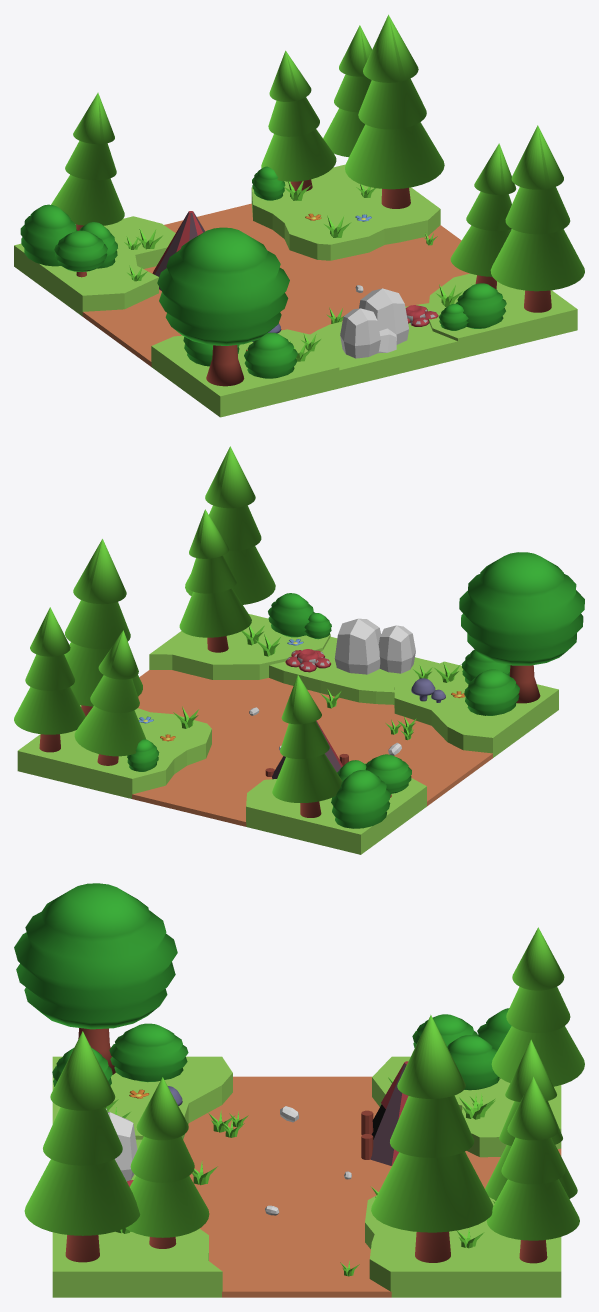
Rendered from jungle level set - 3 Way (3).fbx.
3 renders of one model, top to bottom at view 1: azimuth 30°, elevation 25°; view 2: azimuth 150°, elevation 25°; view 3: azimuth 270°, elevation 25°, orthographic. The views are drawn at different scales.
Parts seen in each view (by area): view 1: land_platform, tree_003, tree_002, tree_006, tree, tree_007, tree_005, tree_001, bush_003, bush_005, tree_004, stone (+7 smaller); view 2: land_platform, tree_003, tree_002, tree_001, tree_005, tree_007, tree_006, tree, bush_003, stone_004, bush, stone (+7 smaller); view 3: land_platform, tree_003, tree_002, tree_006, tree_001, tree_005, tree_007, bush, tree, camp, bush_001, stone_004 (+3 smaller).
Boxes of the visible parts, left/top/right/bottom form: land_platform: left=14, top=164, right=577, bottom=417; tree_003: left=157, top=227, right=289, bottom=386; tree_002: left=345, top=14, right=444, bottom=208; tree_006: left=490, top=125, right=584, bottom=312; tree: left=261, top=50, right=336, bottom=191; tree_007: left=51, top=92, right=124, bottom=230; tree_005: left=450, top=143, right=516, bottom=288; tree_001: left=323, top=25, right=372, bottom=157; bush_003: left=20, top=204, right=77, bottom=266; bush_005: left=244, top=332, right=297, bottom=378; tree_004: left=54, top=230, right=107, bottom=277; stone: left=340, top=308, right=380, bottom=358; land_platform: left=17, top=614, right=558, bottom=854; tree_003: left=459, top=552, right=584, bottom=703; tree_002: left=64, top=539, right=142, bottom=716; tree_001: left=14, top=607, right=85, bottom=752; tree_005: left=179, top=509, right=251, bottom=652; tree_007: left=272, top=675, right=342, bottom=817; tree_006: left=185, top=446, right=275, bottom=604; tree: left=74, top=630, right=145, bottom=765; bush_003: left=331, top=770, right=390, bottom=828; stone_004: left=334, top=618, right=381, bottom=674; bush: left=464, top=669, right=519, bottom=715; stone: left=378, top=625, right=415, bottom=673; land_platform: left=52, top=1056, right=561, bottom=1297; tree_003: left=14, top=883, right=177, bottom=1074; tree_002: left=371, top=1015, right=493, bottom=1262; tree_006: left=24, top=1031, right=140, bottom=1262; tree_001: left=487, top=1077, right=579, bottom=1263; tree_005: left=125, top=1077, right=209, bottom=1248; tree_007: left=491, top=927, right=584, bottom=1086; bush: left=109, top=1023, right=188, bottom=1082; tree: left=485, top=1039, right=577, bottom=1200; camp: left=361, top=1061, right=408, bottom=1165; bush_001: left=447, top=1035, right=499, bottom=1090; stone_004: left=107, top=1112, right=137, bottom=1180.
Bounding box in the file's own units: 17.34 × 8.97 × 17.03.
